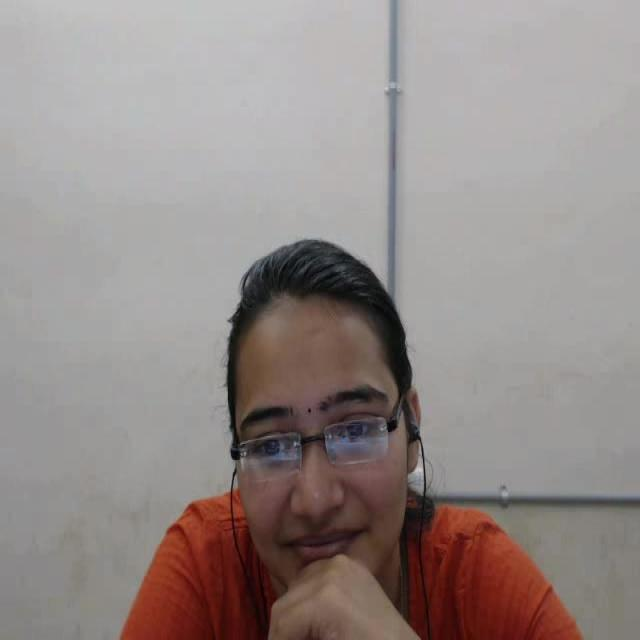Bored: (203, 214, 450, 640)
